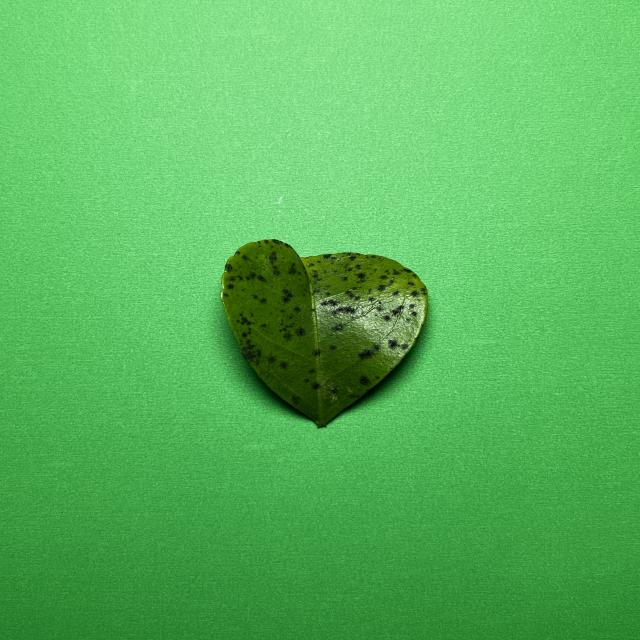sooty_mold: (220, 239, 428, 427)
